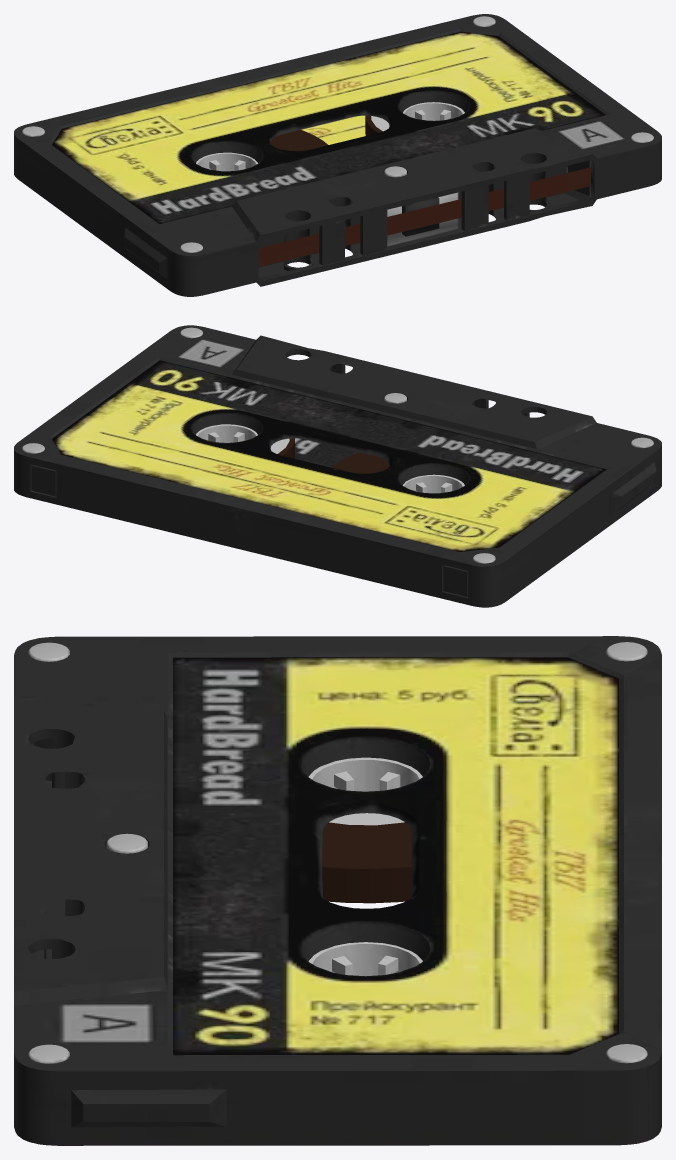
The model's file is cassette.glb.
The picture shows the model from 3 angles, top to bottom: view 1: azimuth 30°, elevation 25°; view 2: azimuth 150°, elevation 25°; view 3: azimuth 270°, elevation 25°; orthographic projection. The views are drawn at different scales.
Parts seen in each view (by area): view 1: Object_4, Object_3; view 2: Object_4, Object_3; view 3: Object_4, Object_3.
Boxes of the visible parts, box(x1,y1,x2,y2) form: Object_4: box(14, 14, 661, 296); Object_3: box(270, 115, 382, 151); Object_4: box(14, 325, 661, 607); Object_3: box(277, 438, 389, 473); Object_4: box(14, 636, 661, 1145); Object_3: box(322, 822, 411, 903).
Size of the model in its own units: 0.1021 by 0.0104 by 0.063.
Materials: 3 (2 with a texture image).
